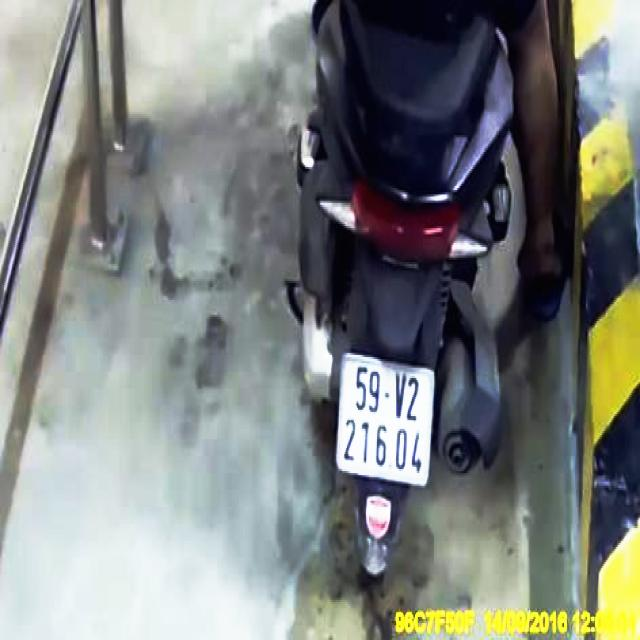license_plate: (337, 355, 431, 483)
